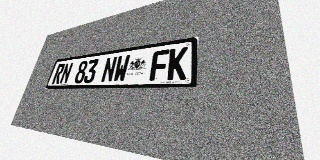3: (83, 59, 99, 83)
8: (73, 60, 89, 84)
F: (149, 49, 169, 81)
K: (167, 47, 188, 80)
N: (100, 56, 118, 83), (59, 62, 74, 84)
R: (51, 63, 66, 84)
W: (112, 54, 130, 82)
